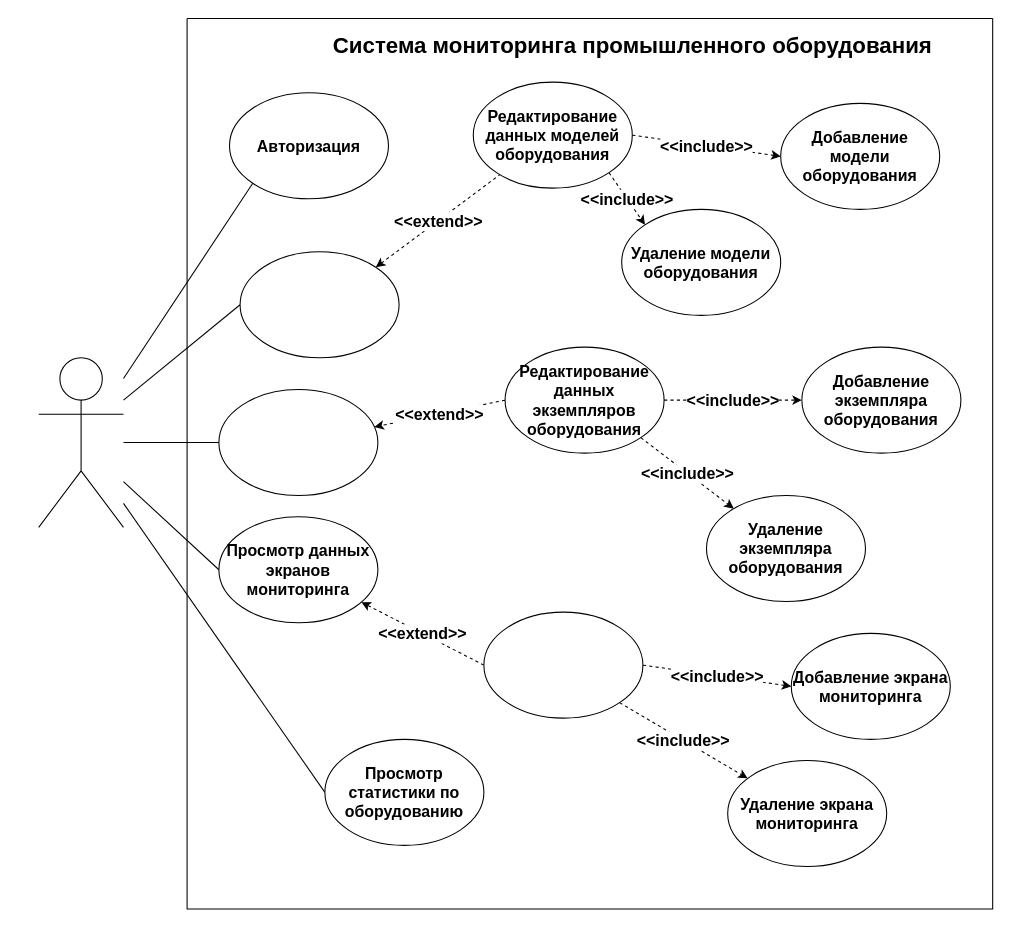
Some shapes in this 1011 by 927 pixel diagram are drawn without their labels. The shapes that lost their labels are listed below. From the top down, each one's centre as x and y in pixels, then its label:
At point (319, 304): "Просмотр данных моделей оборудования".
At point (80, 442): "Администратор оборудования".
At point (298, 442): "Просмотр данных экземпляров оборудования".
At point (563, 664): "Редактирование данных экранов мониторинга".
